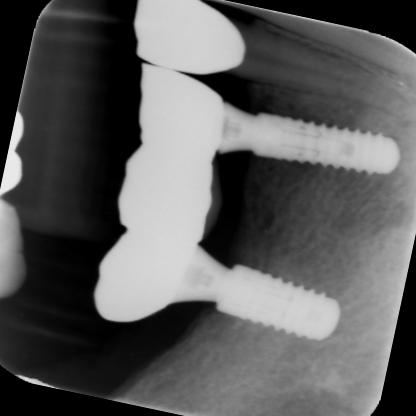ITI: (238, 83, 413, 199), (196, 255, 352, 357)
